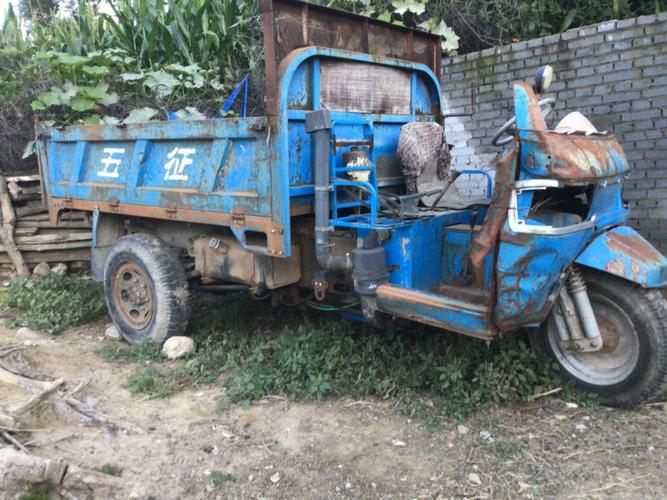empty: (33, 27, 661, 408)
